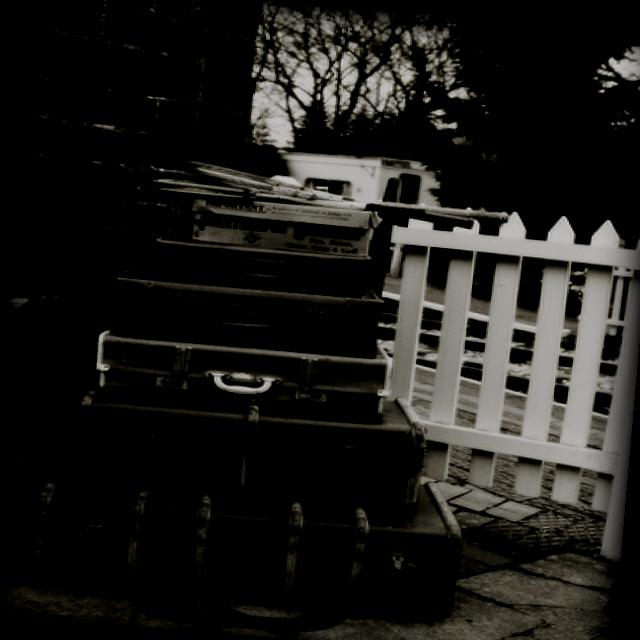Vehicle: (281, 148, 446, 206)
